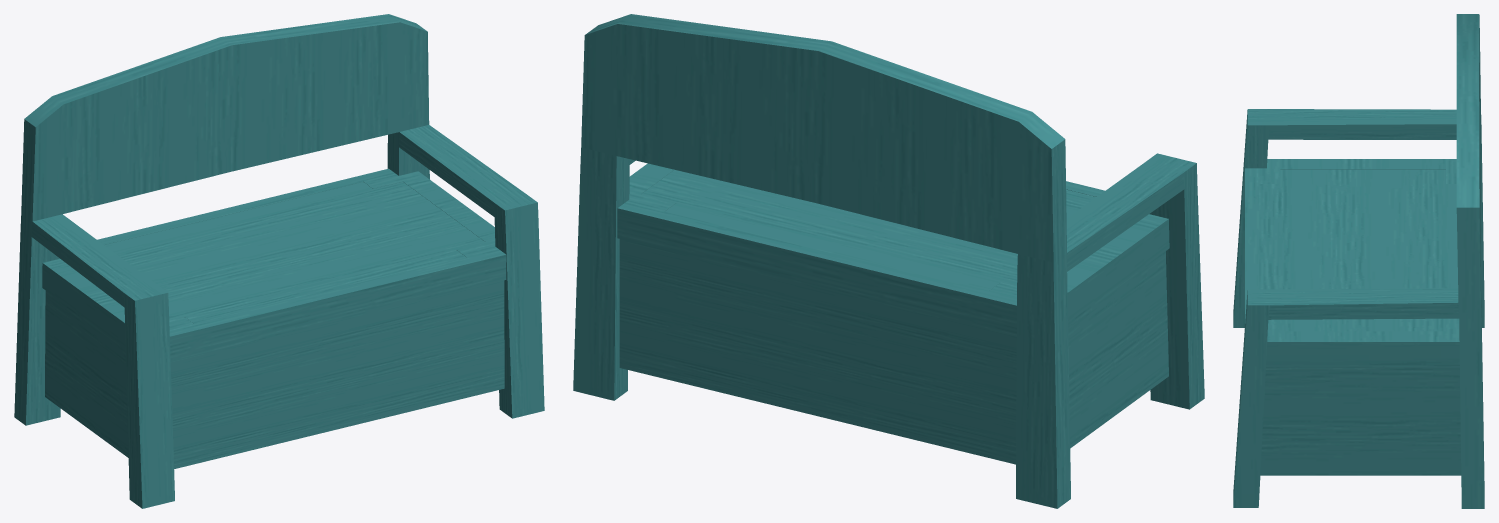
The model's file is Deacon_Bench_E.FBX.
3 renders of one model, left to right at view 1: azimuth 30°, elevation 25°; view 2: azimuth 150°, elevation 25°; view 3: azimuth 270°, elevation 25°, orthographic. The views are drawn at different scales.
Visible parts, largest first — view 1: Deacon_Bench, Lid; view 2: Deacon_Bench, Lid; view 3: Deacon_Bench, Lid.
Part boxes in pixels (x1,y1,x2,y2): Deacon_Bench: (14,14,544,508); Lid: (104,182,485,323); Deacon_Bench: (573,14,1204,508); Lid: (641,169,1096,290); Deacon_Bench: (1233,14,1484,508); Lid: (1259,169,1458,331).
Bounding box in the file's own units: 248 × 194 × 133.
